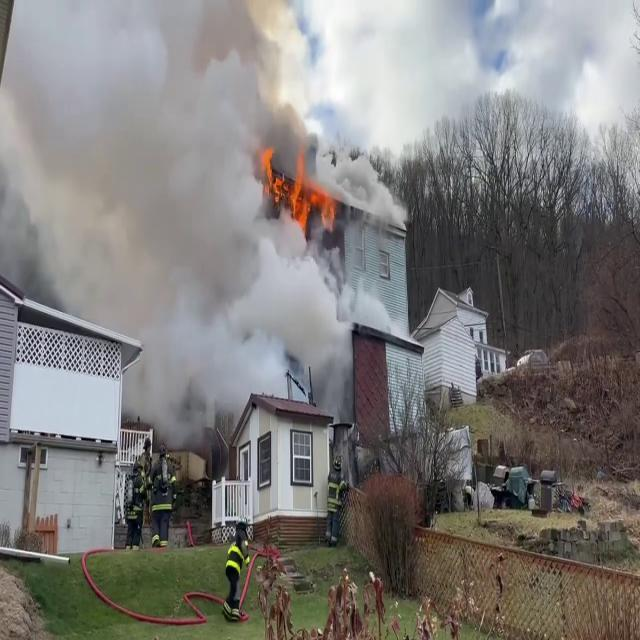Fire: (258, 147, 344, 233)
Smoke: (4, 0, 358, 434)
